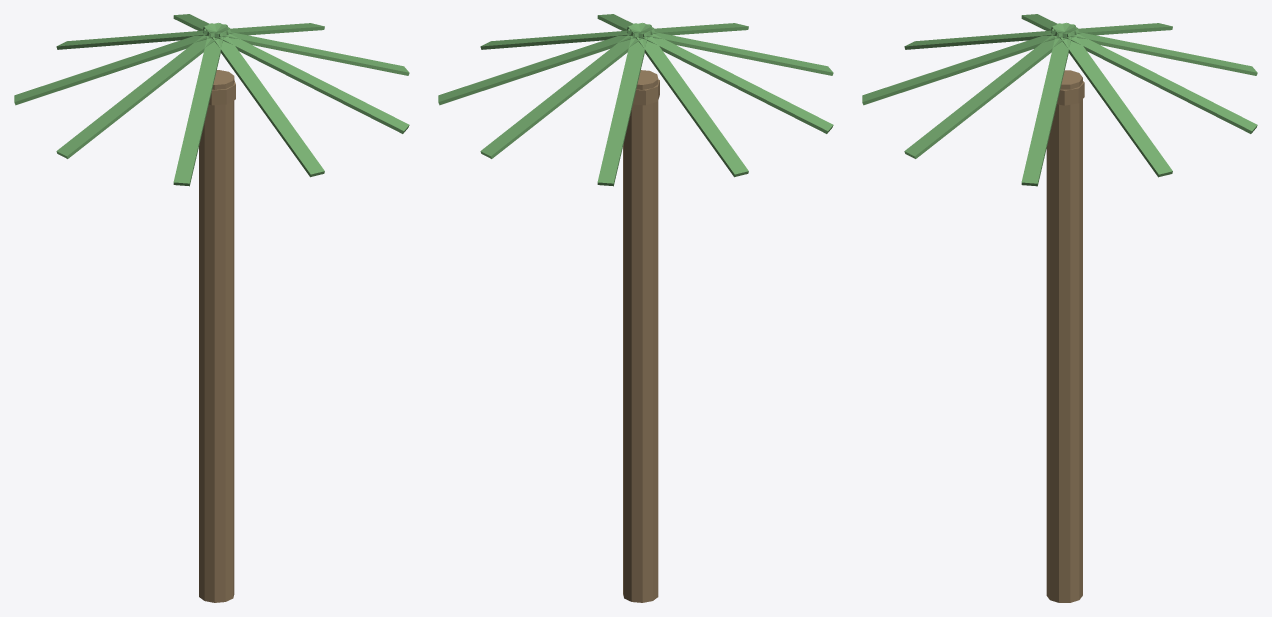
File: palm_02.glb
The picture shows the model from 3 angles, left to right: view 1: azimuth 30°, elevation 25°; view 2: azimuth 150°, elevation 25°; view 3: azimuth 270°, elevation 25°; orthographic projection.
Visible parts, largest first — view 1: Palm.001, Frond.001; view 2: Palm.001, Frond.001; view 3: Palm.001, Frond.001.
Boxes of the visible parts, left/top/right/bottom form: Palm.001: left=199, top=70, right=235, bottom=602; Frond.001: left=14, top=14, right=409, bottom=186; Palm.001: left=623, top=70, right=659, bottom=602; Frond.001: left=438, top=14, right=833, bottom=186; Palm.001: left=1046, top=70, right=1084, bottom=602; Frond.001: left=862, top=14, right=1257, bottom=186.
Bounding box in the file's own units: 4.43 × 6.9 × 4.36.
